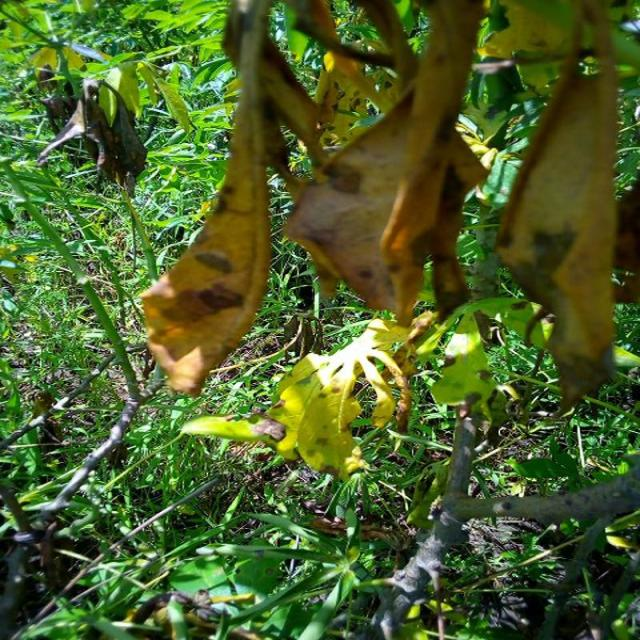cassava leaf: (139, 1, 273, 398), (282, 82, 493, 324), (180, 316, 416, 479)
